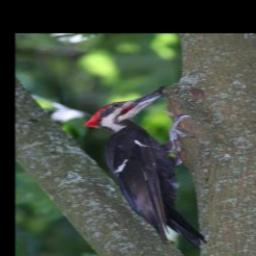Woodpecker: (82, 87, 207, 250)
